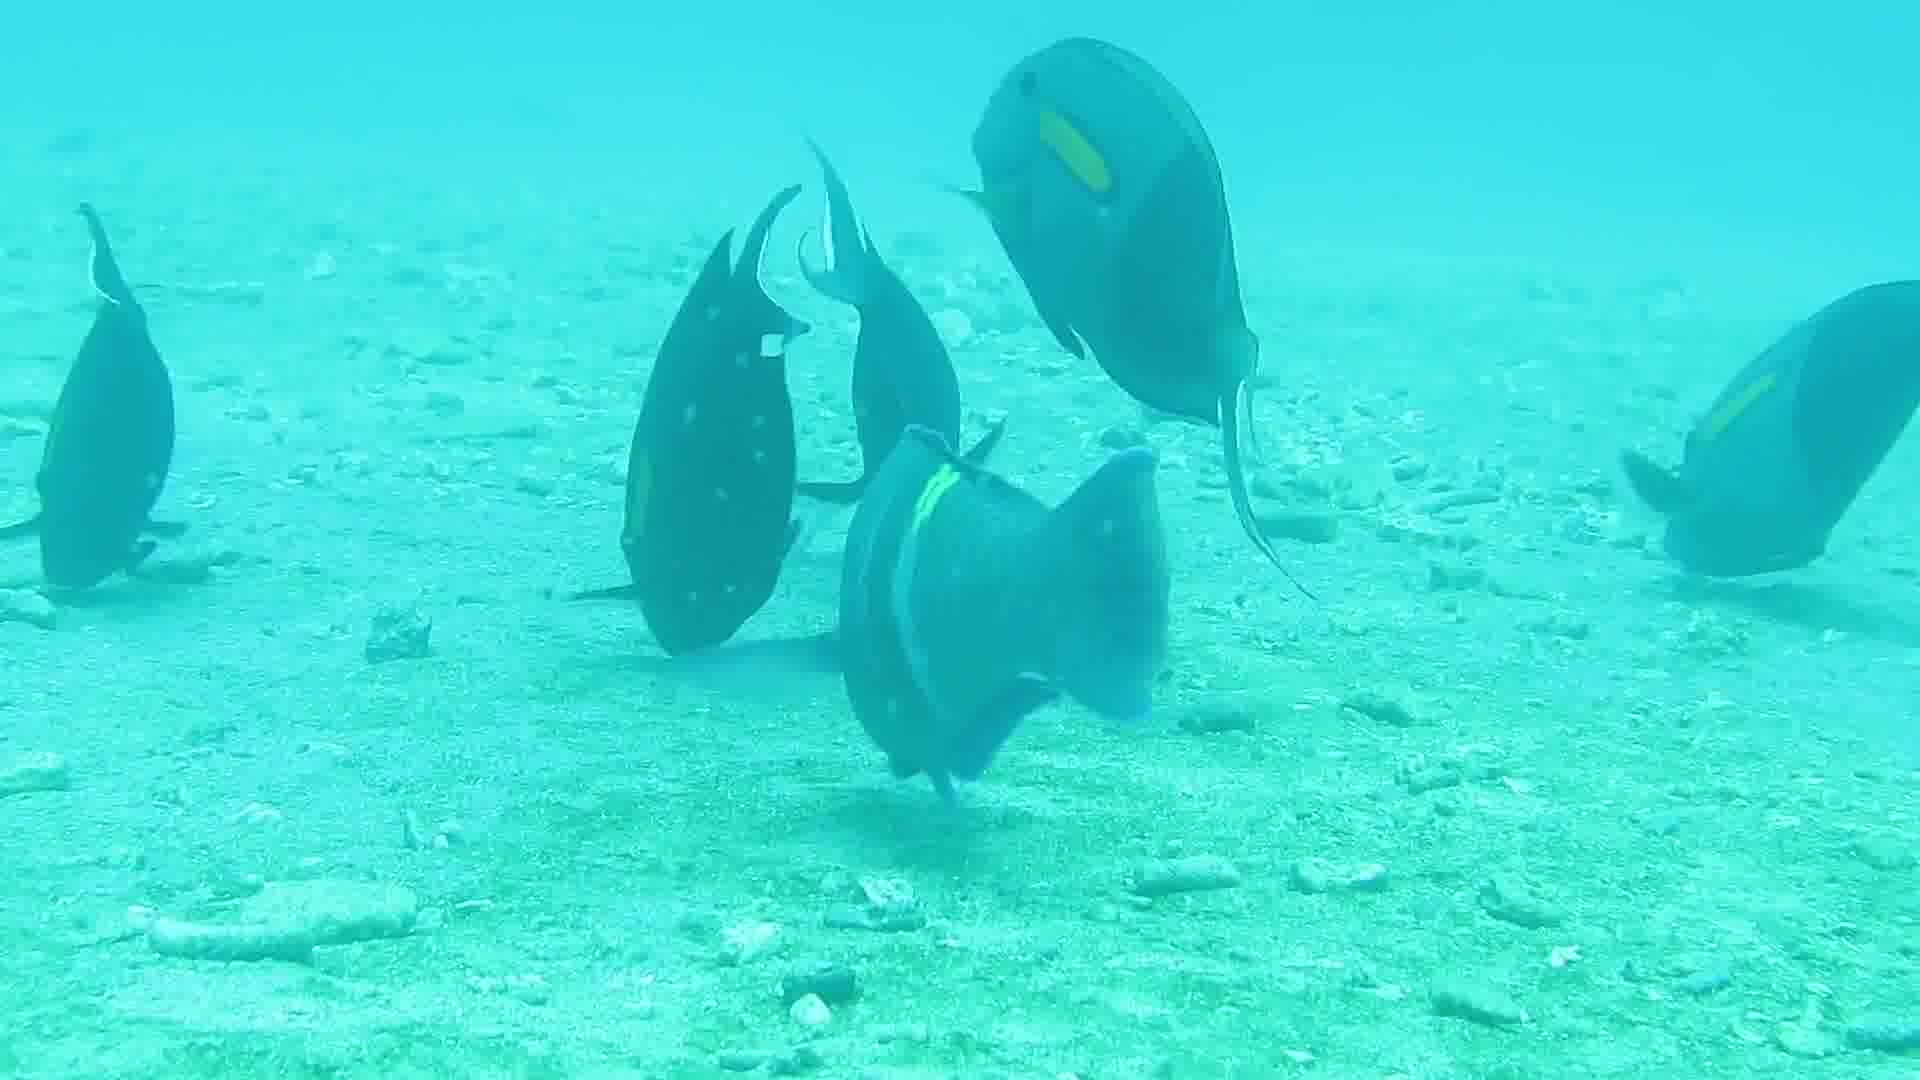Acanthurus olivaceus: (1651, 241, 1920, 620), (542, 284, 810, 663), (964, 18, 1232, 398), (836, 439, 1104, 818), (1, 229, 268, 608), (824, 156, 1002, 501)
